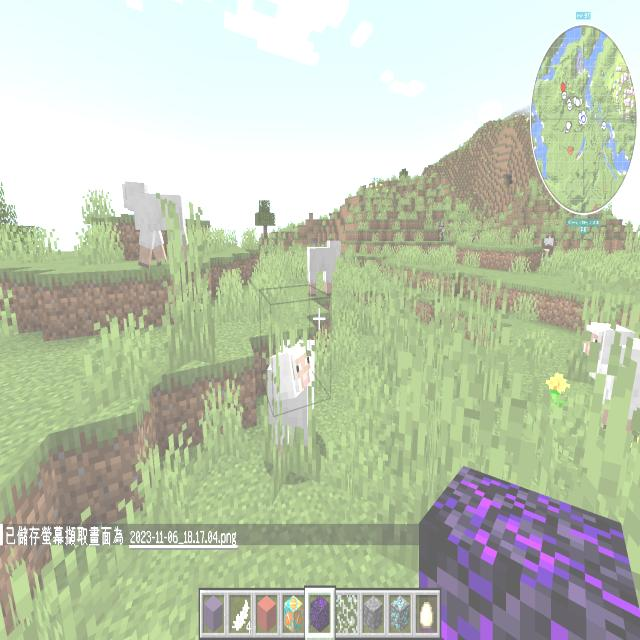cow: (537, 232, 557, 262), (433, 224, 449, 248)
